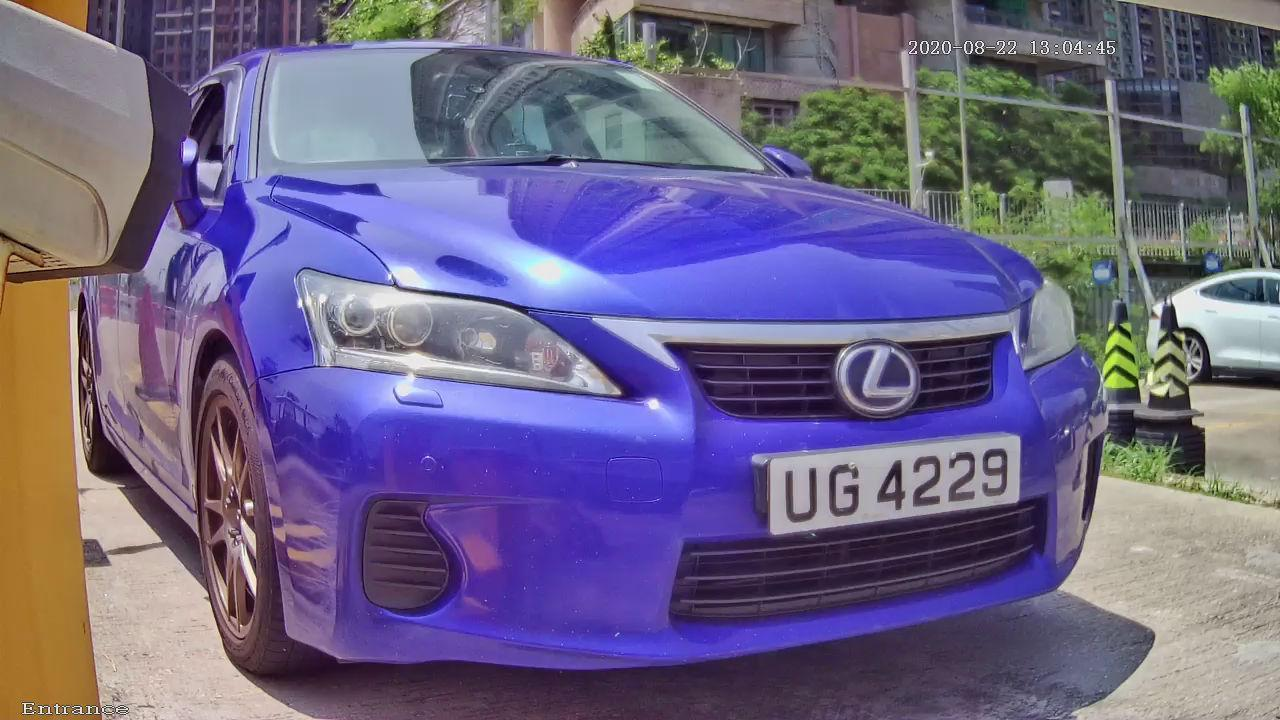Car: (41, 1, 1189, 720)
License Plate: (669, 398, 1071, 578)
